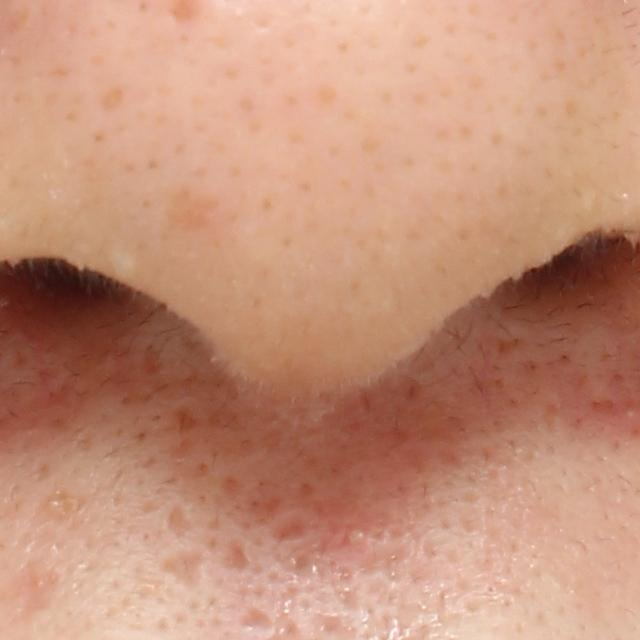atrophic_scar: (146, 547, 210, 592), (232, 605, 283, 637), (221, 533, 257, 577), (263, 510, 311, 542), (164, 501, 195, 540)
